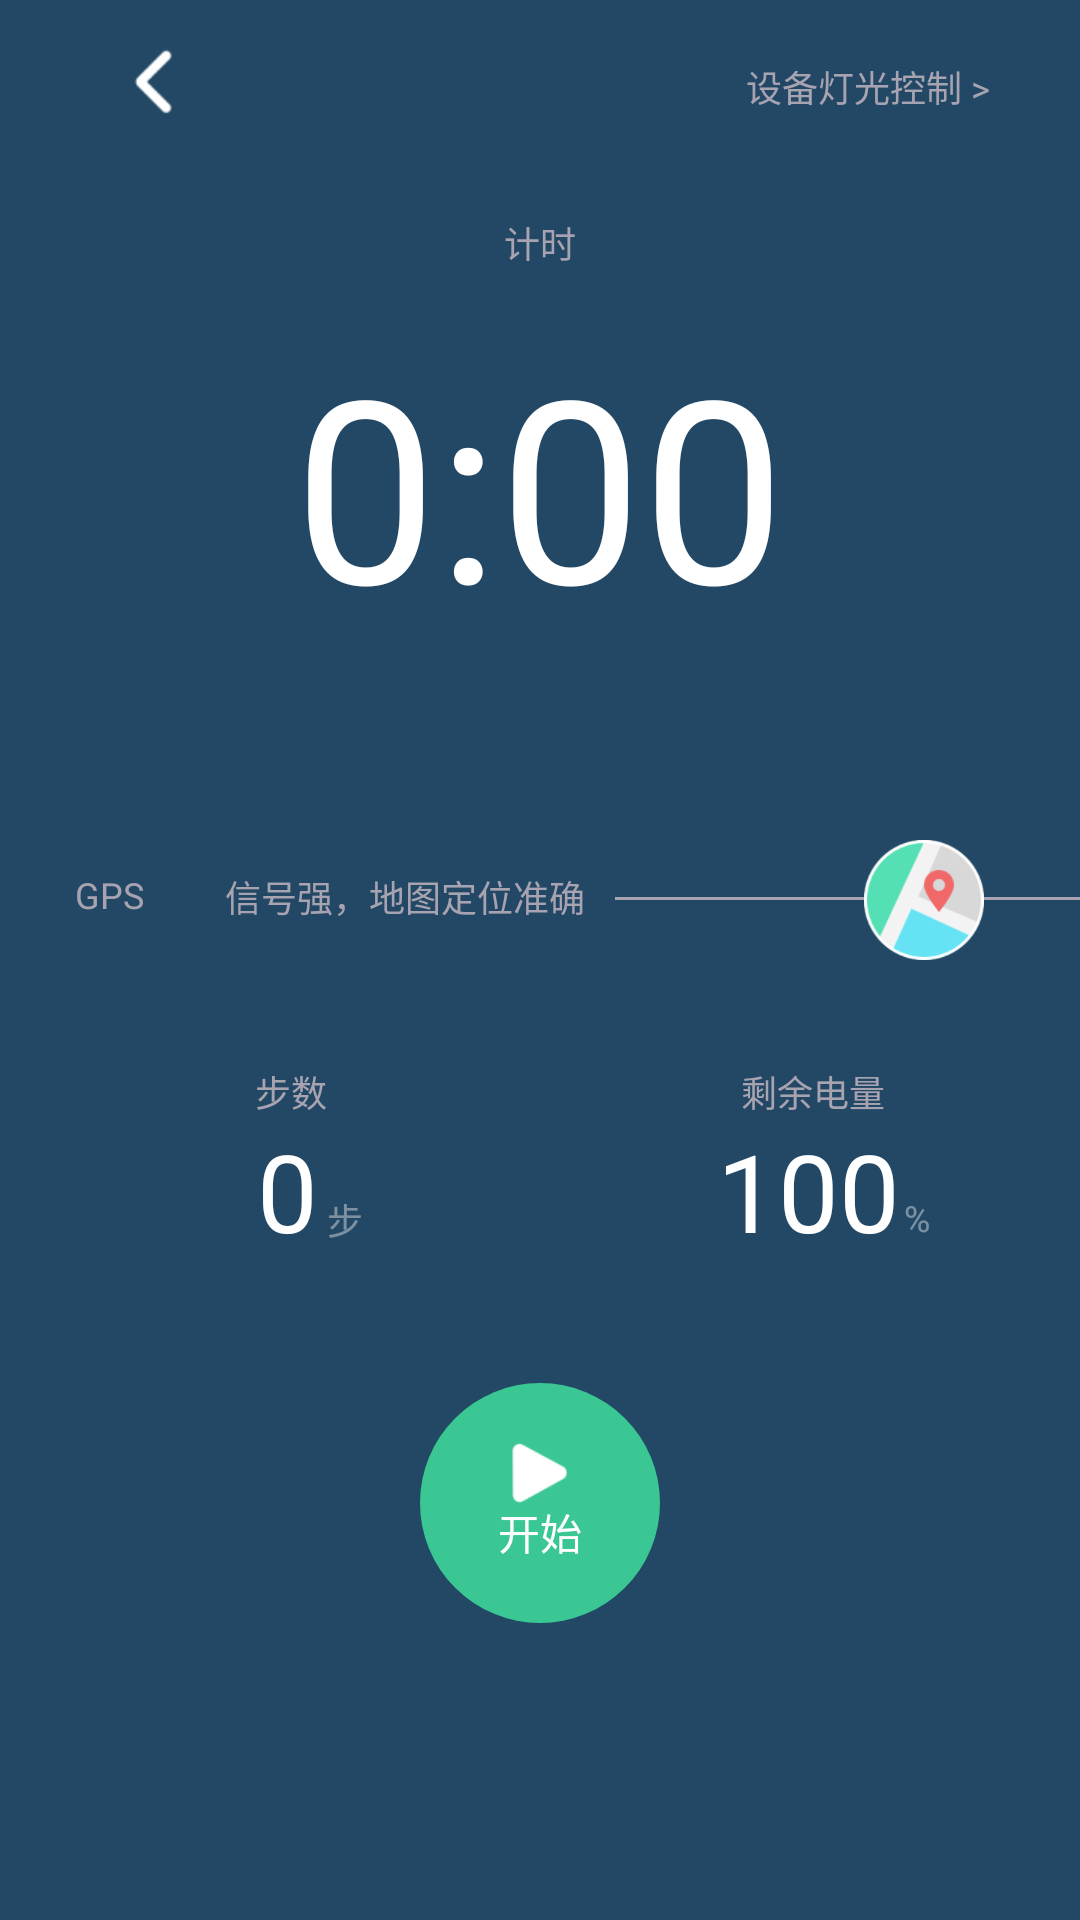

Named icons in this screenshot (1080 × 1920) and their centers, (x,y):
system map: (924,900)
system return: (153,81)
